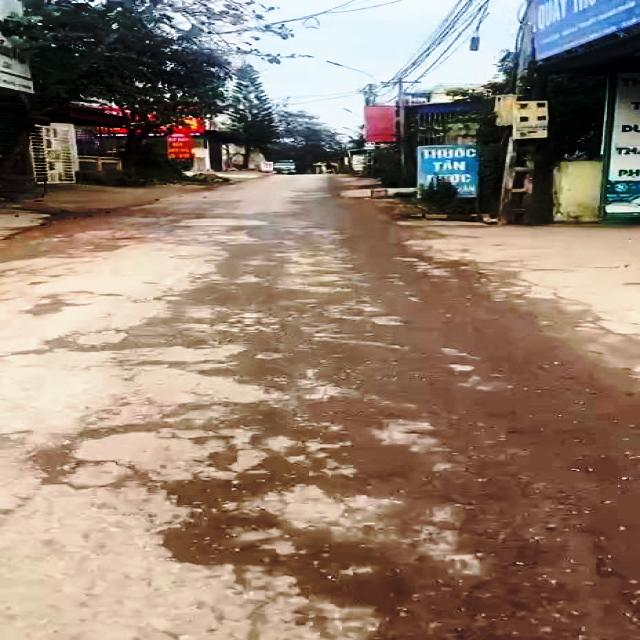pothole: (140, 460, 296, 574), (0, 420, 170, 492), (279, 540, 418, 614)
